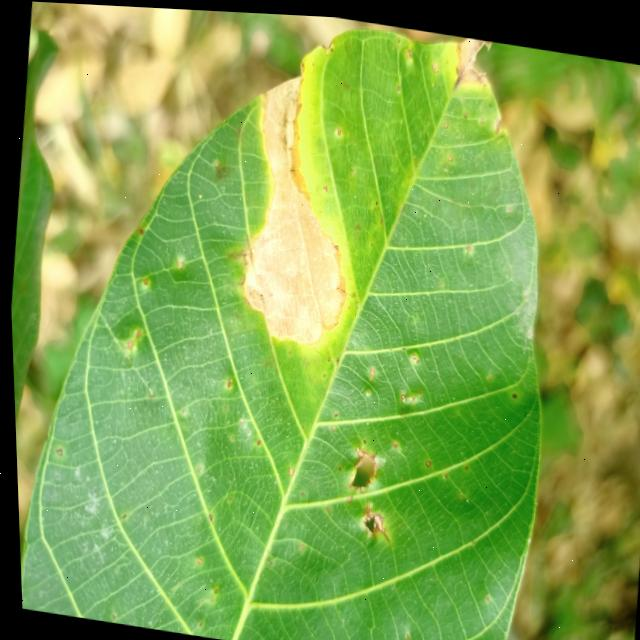Colletotrichum: (431, 59, 438, 68), (52, 447, 59, 456), (420, 455, 427, 462), (284, 464, 290, 472), (223, 378, 229, 386), (366, 365, 372, 371), (321, 182, 327, 188), (193, 556, 198, 562), (336, 126, 341, 132), (442, 118, 447, 124), (253, 437, 258, 443), (478, 113, 482, 120), (509, 387, 514, 392), (446, 152, 451, 157), (459, 460, 464, 465), (322, 504, 327, 509), (342, 494, 347, 499), (480, 590, 484, 596), (209, 586, 213, 591), (409, 350, 413, 355), (396, 81, 400, 86), (439, 468, 443, 473), (205, 596, 209, 600), (331, 409, 335, 413), (327, 421, 331, 425), (484, 370, 488, 374), (332, 242, 336, 246), (297, 488, 301, 492), (320, 370, 323, 374), (335, 463, 338, 467), (415, 385, 417, 390), (325, 354, 327, 358), (286, 347, 288, 351), (363, 385, 365, 389), (414, 355, 416, 359), (369, 238, 371, 242), (228, 433, 230, 437), (326, 479, 328, 482), (345, 302, 347, 304), (371, 281, 373, 283), (350, 170, 352, 172), (351, 167, 353, 169)
Leaf-Blight: (228, 64, 368, 350), (452, 31, 497, 86)
